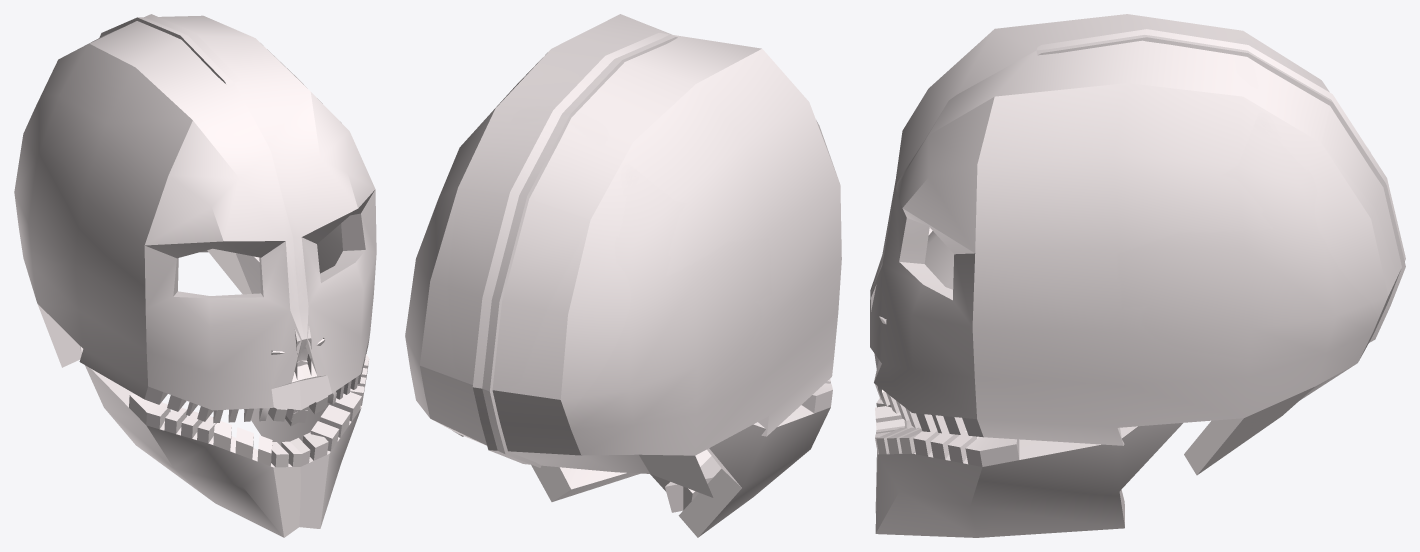
File: skull_low_poly.fbx
The picture shows the model from 3 angles, left to right: view 1: azimuth 30°, elevation 25°; view 2: azimuth 150°, elevation 25°; view 3: azimuth 270°, elevation 25°; orthographic projection. The views are drawn at different scales.
Parts seen in each view (by area): view 1: Cube; view 2: Cube; view 3: Cube.
Boxes of the visible parts, x1,y1,x2,y2 form: Cube: (14,14,376,537); Cube: (405,14,841,537); Cube: (870,14,1405,537).
Size of the model in its own units: 69.33 by 113 by 111.
